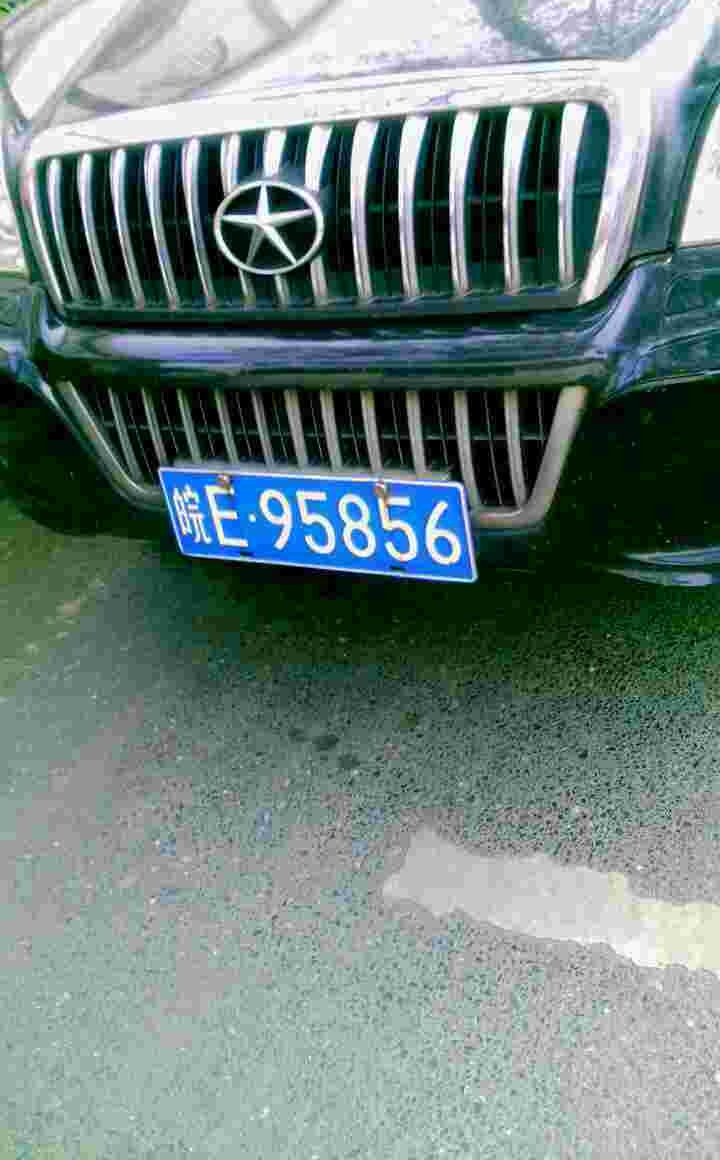license_plate: (163, 468, 469, 573)
